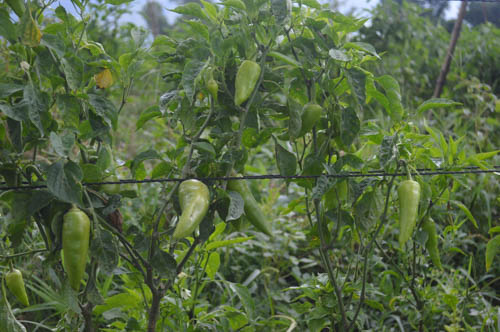ChiliPepper: (233, 174, 277, 241), (168, 181, 211, 243), (391, 181, 426, 252), (62, 211, 90, 290), (280, 105, 318, 146), (231, 62, 259, 112), (423, 219, 445, 269), (6, 270, 33, 308)
